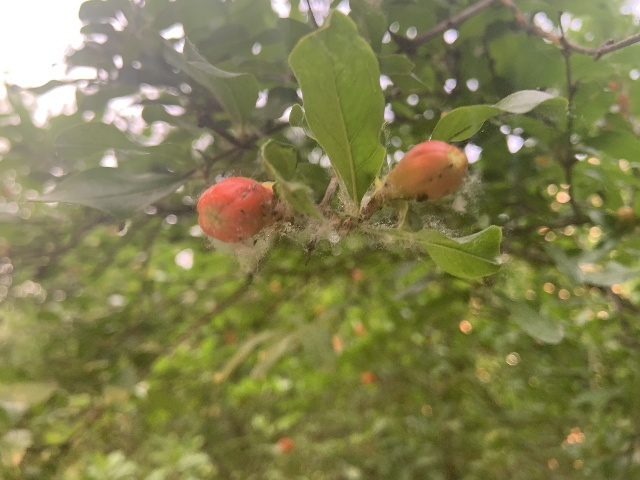bud: (197, 177, 277, 244), (381, 140, 467, 201)
